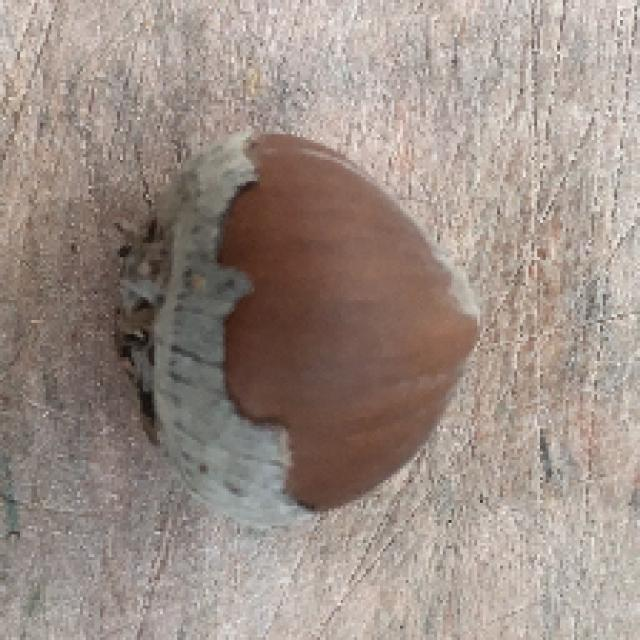DamagedHazelnut: (111, 135, 485, 528)
